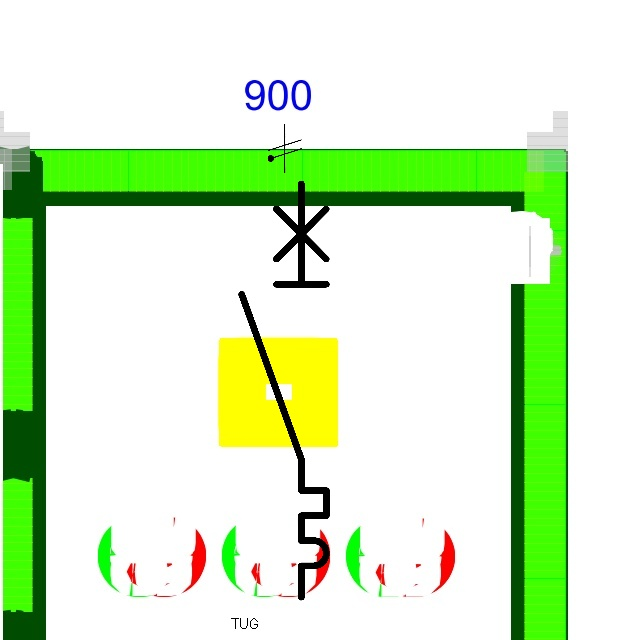interruptor_termomagnetico: (231, 173, 337, 608)
